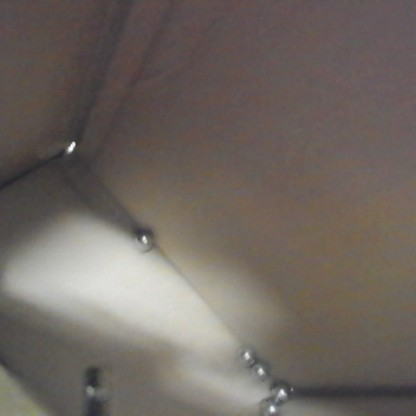ironball: (78, 364, 117, 403), (128, 221, 157, 254), (251, 394, 285, 414), (267, 375, 290, 401), (236, 344, 258, 370), (250, 357, 270, 381)
